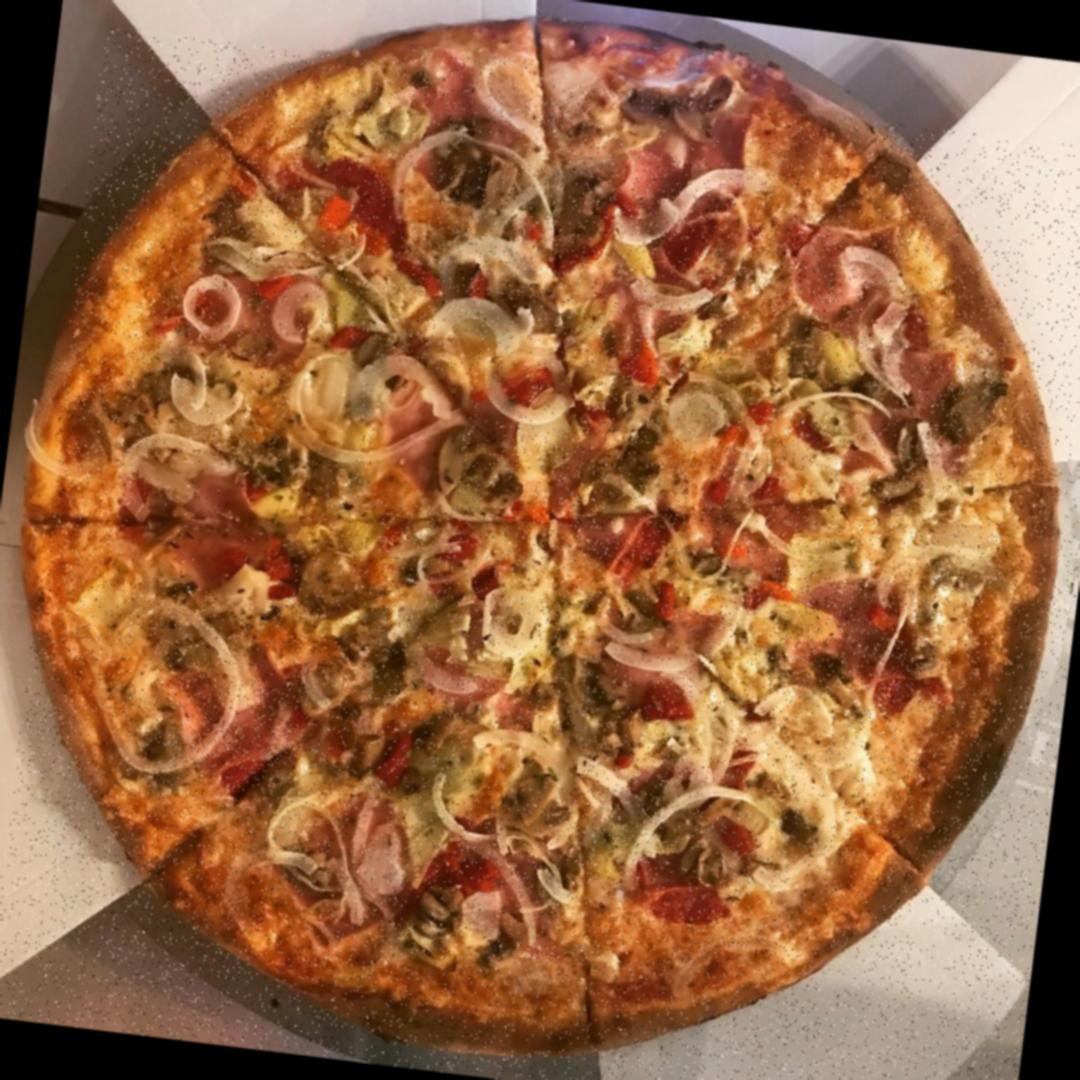Ham: (122, 457, 302, 601), (768, 571, 928, 710), (390, 45, 546, 178), (774, 214, 926, 337), (158, 668, 305, 794), (615, 102, 762, 224), (366, 364, 471, 509), (192, 264, 337, 356), (708, 488, 844, 580), (864, 336, 978, 430), (570, 498, 696, 582), (546, 406, 606, 524)
Onion: (606, 150, 774, 256), (565, 754, 670, 876), (280, 340, 367, 468), (867, 536, 1025, 600), (835, 236, 923, 336), (156, 352, 254, 437), (476, 352, 579, 432), (591, 612, 705, 682), (662, 778, 777, 846), (462, 726, 580, 790), (421, 290, 531, 356), (778, 377, 892, 429), (509, 156, 565, 256), (382, 129, 439, 223), (260, 792, 348, 848), (418, 772, 470, 849), (424, 129, 524, 168)
Pizza: (0, 26, 1080, 1080)
